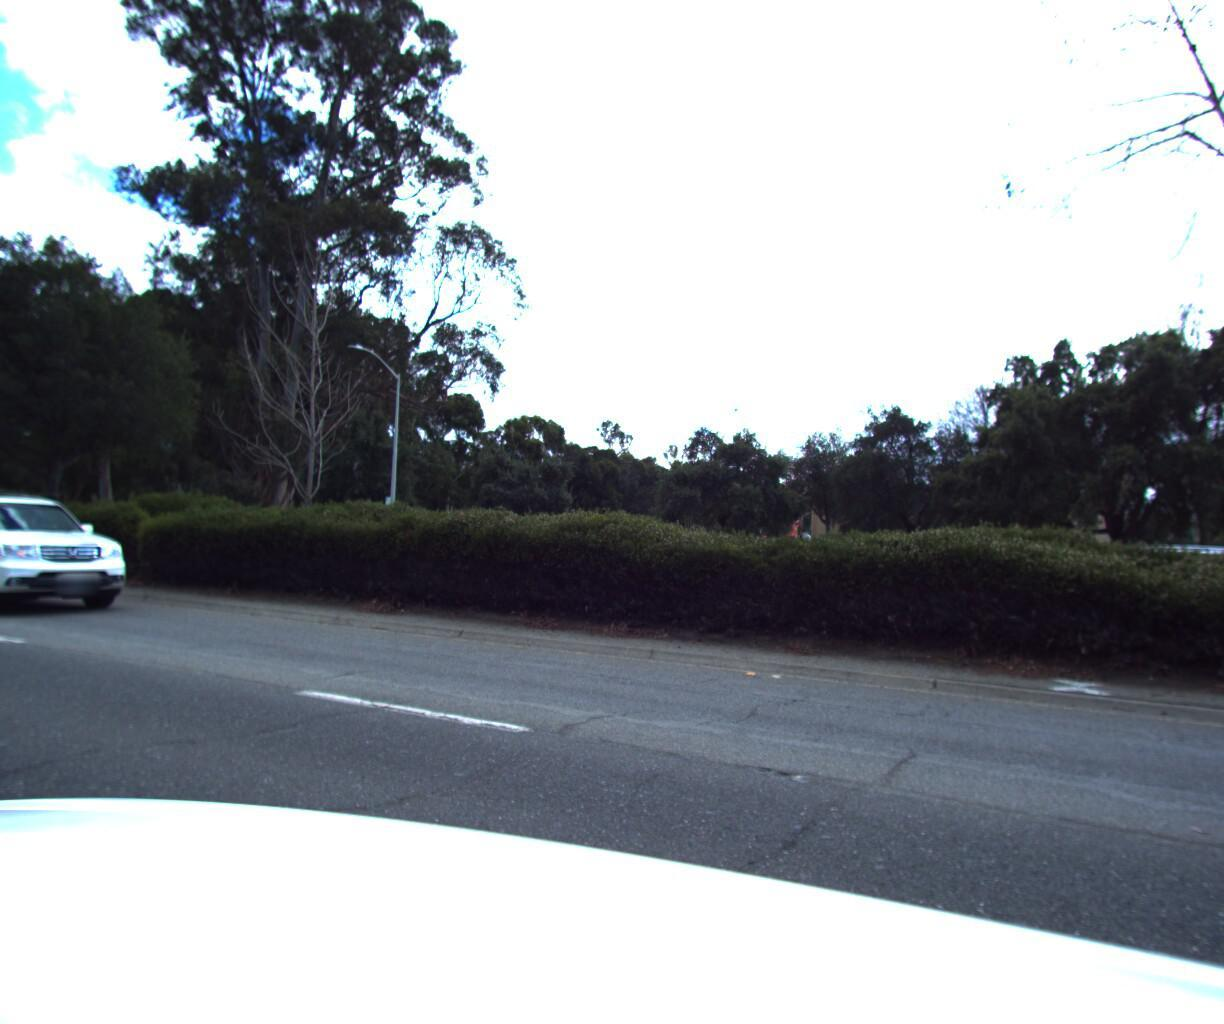car: (0, 484, 160, 624), (1059, 540, 1224, 639)
